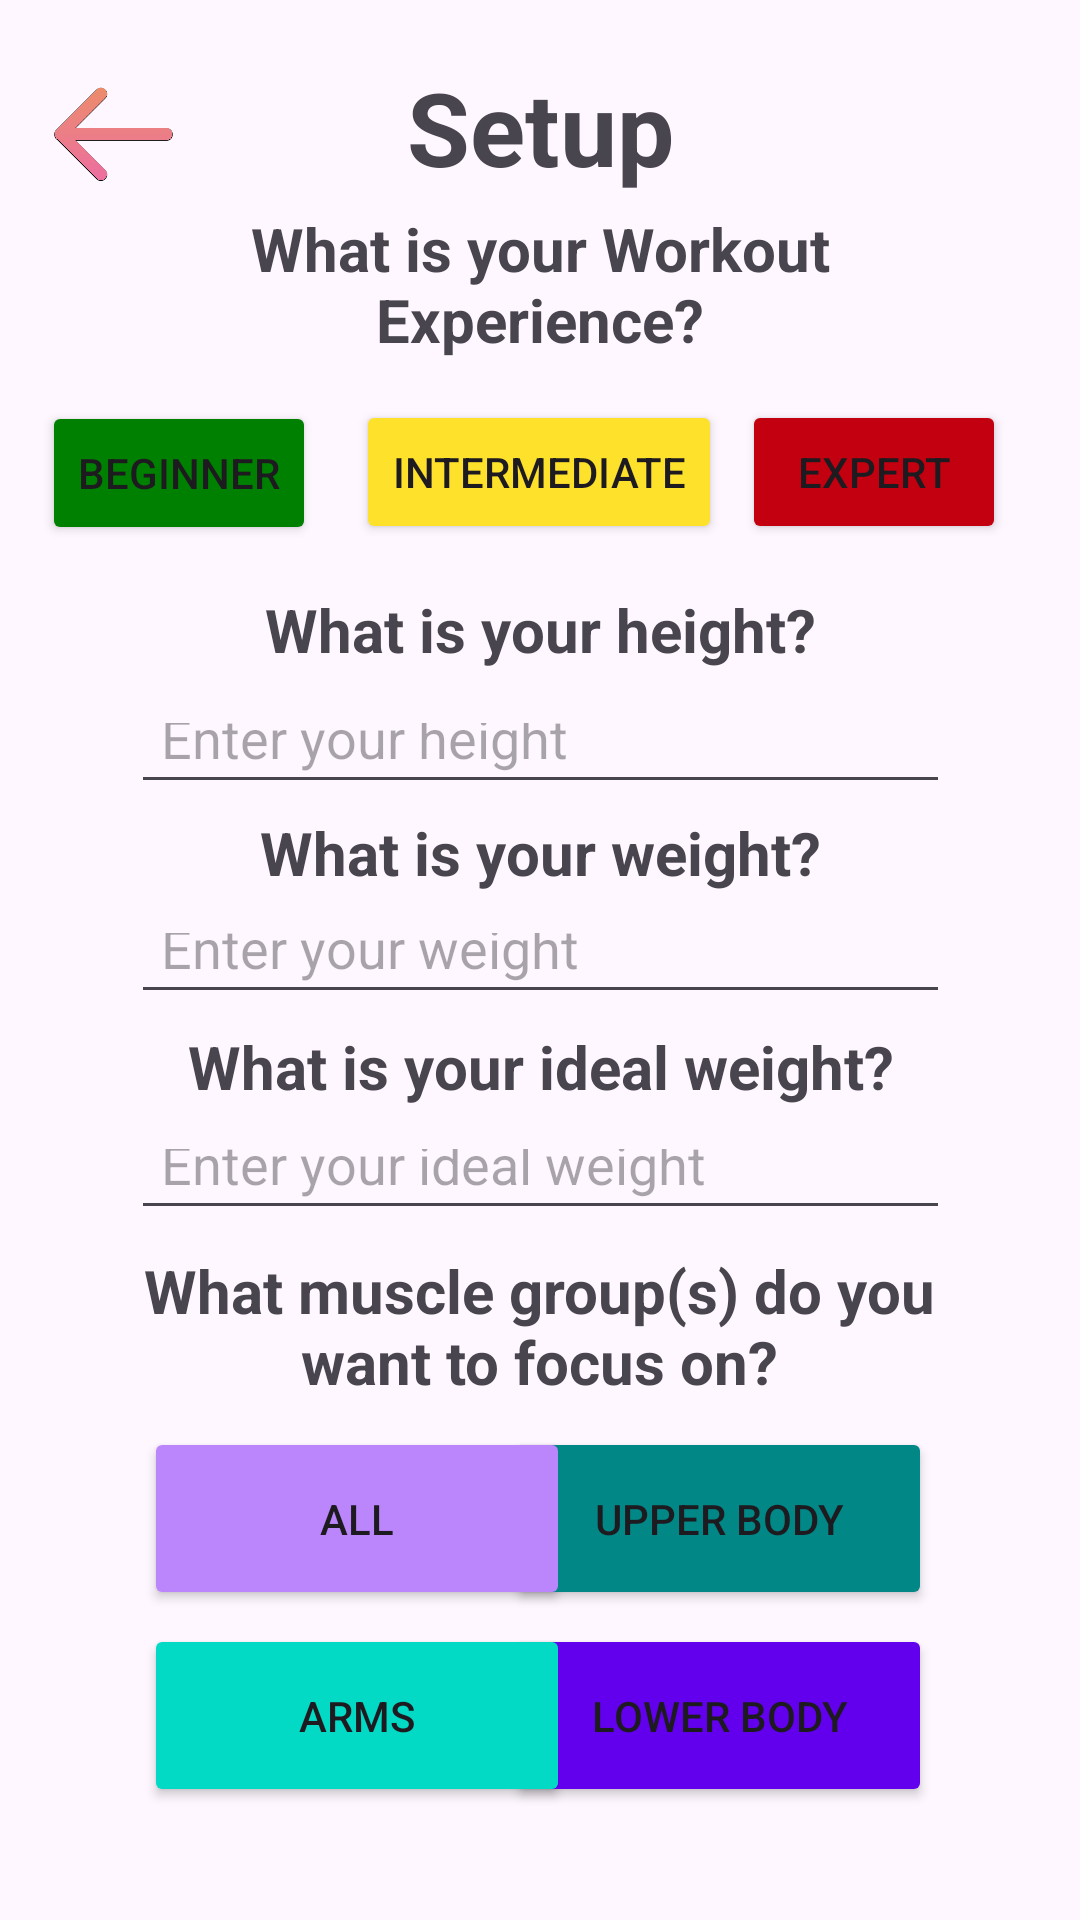

Screen size 1080px x 1920px. Icon name, then its center in pixels as (x=x, y=y):
back arrow fit data: (x=113, y=134)
